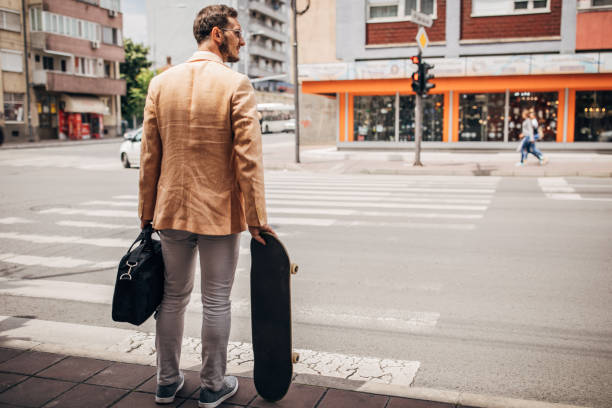yaya: (105, 0, 341, 407)
